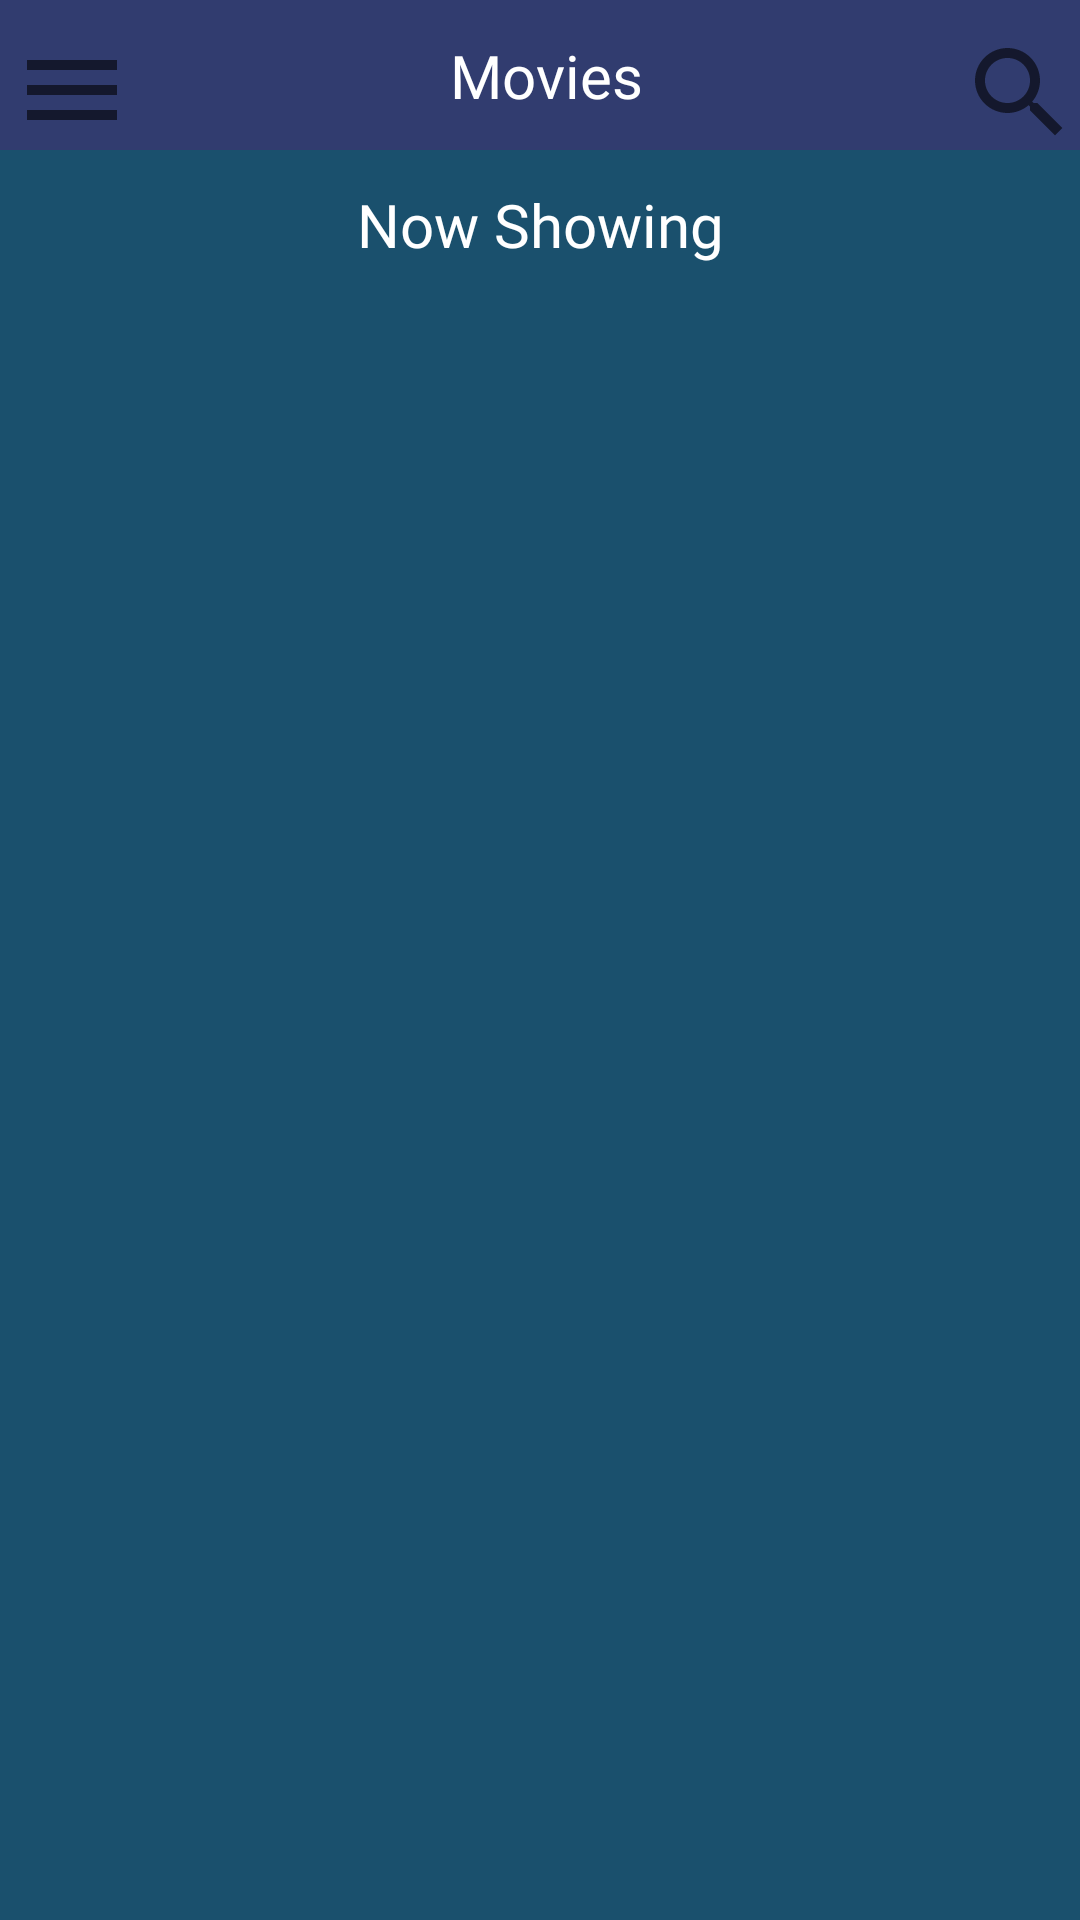

Point at icon controls on the screen. Image size 1080w x 1920h, points as (x,y).
menu: (72,90)
search: (1018,91)
